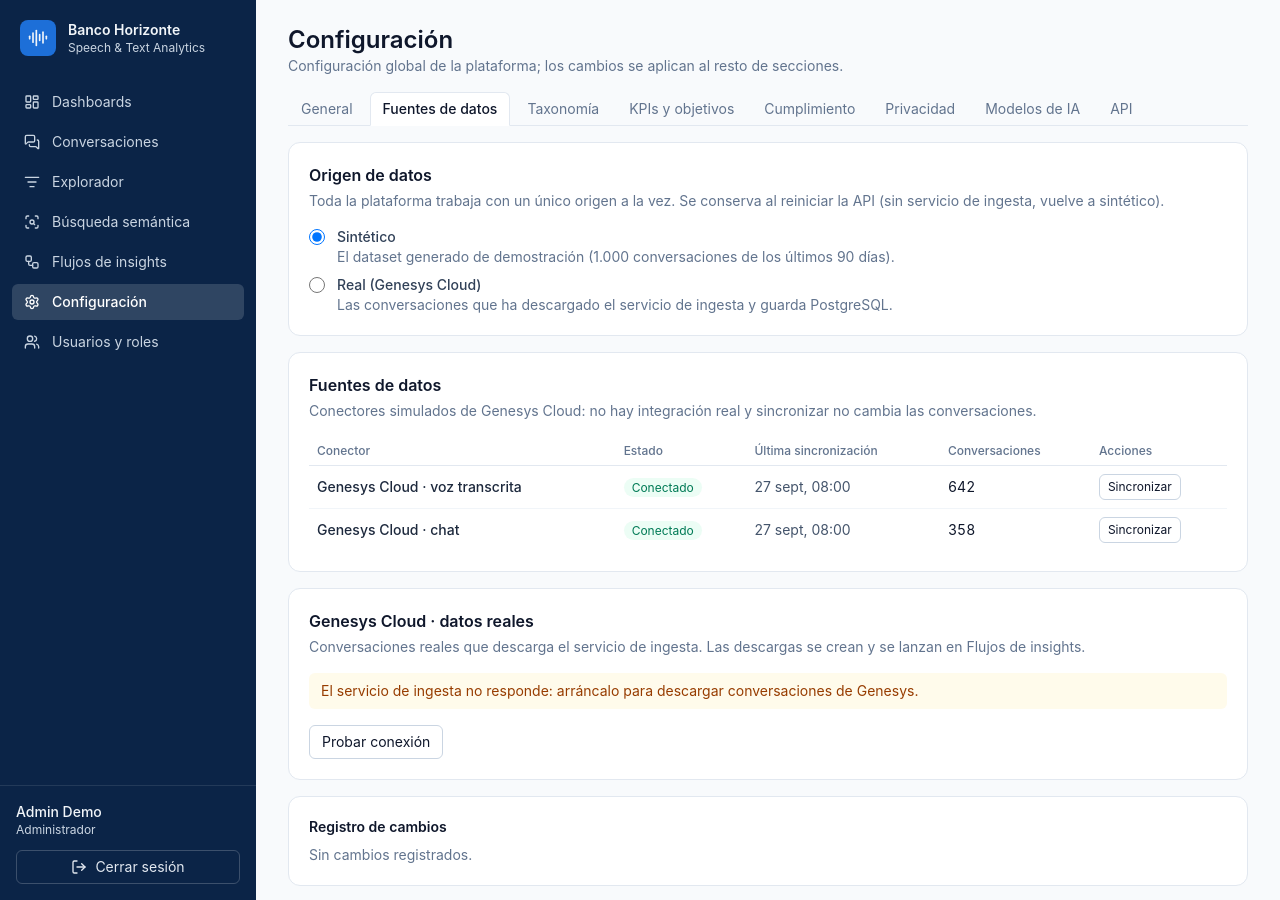
it: Configuración: conector de Genesys Cloud › si el servicio de ingesta no responde, lo dice y la prueba también
Expected: the text "El servicio de ingesta no responde" is shown, [321,682,918,699]
Click the button "Probar conexión" at (376, 742), box [309,725,443,759]
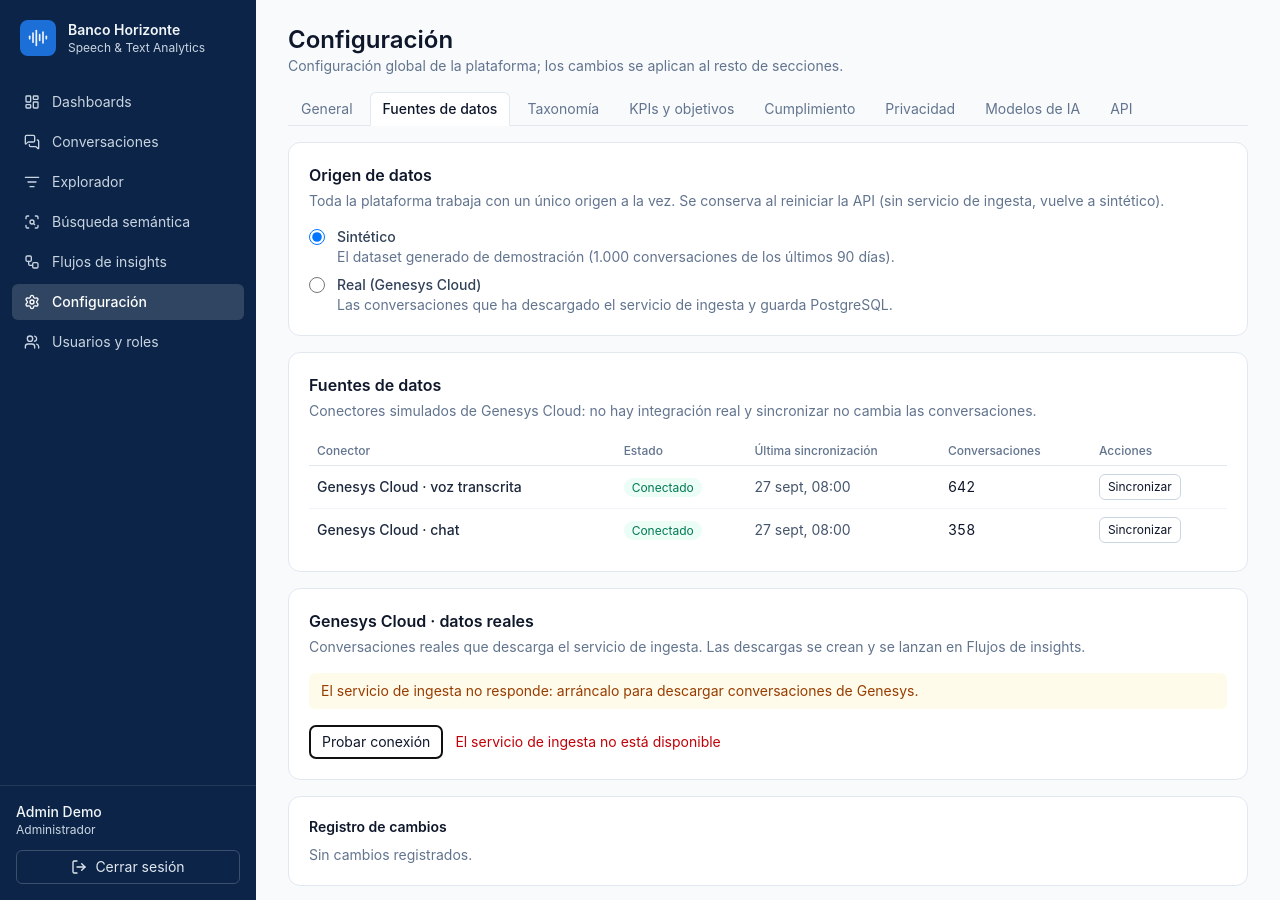
Result: the message reads "El servicio de ingesta no está disponible" at [455,733,721,750]
